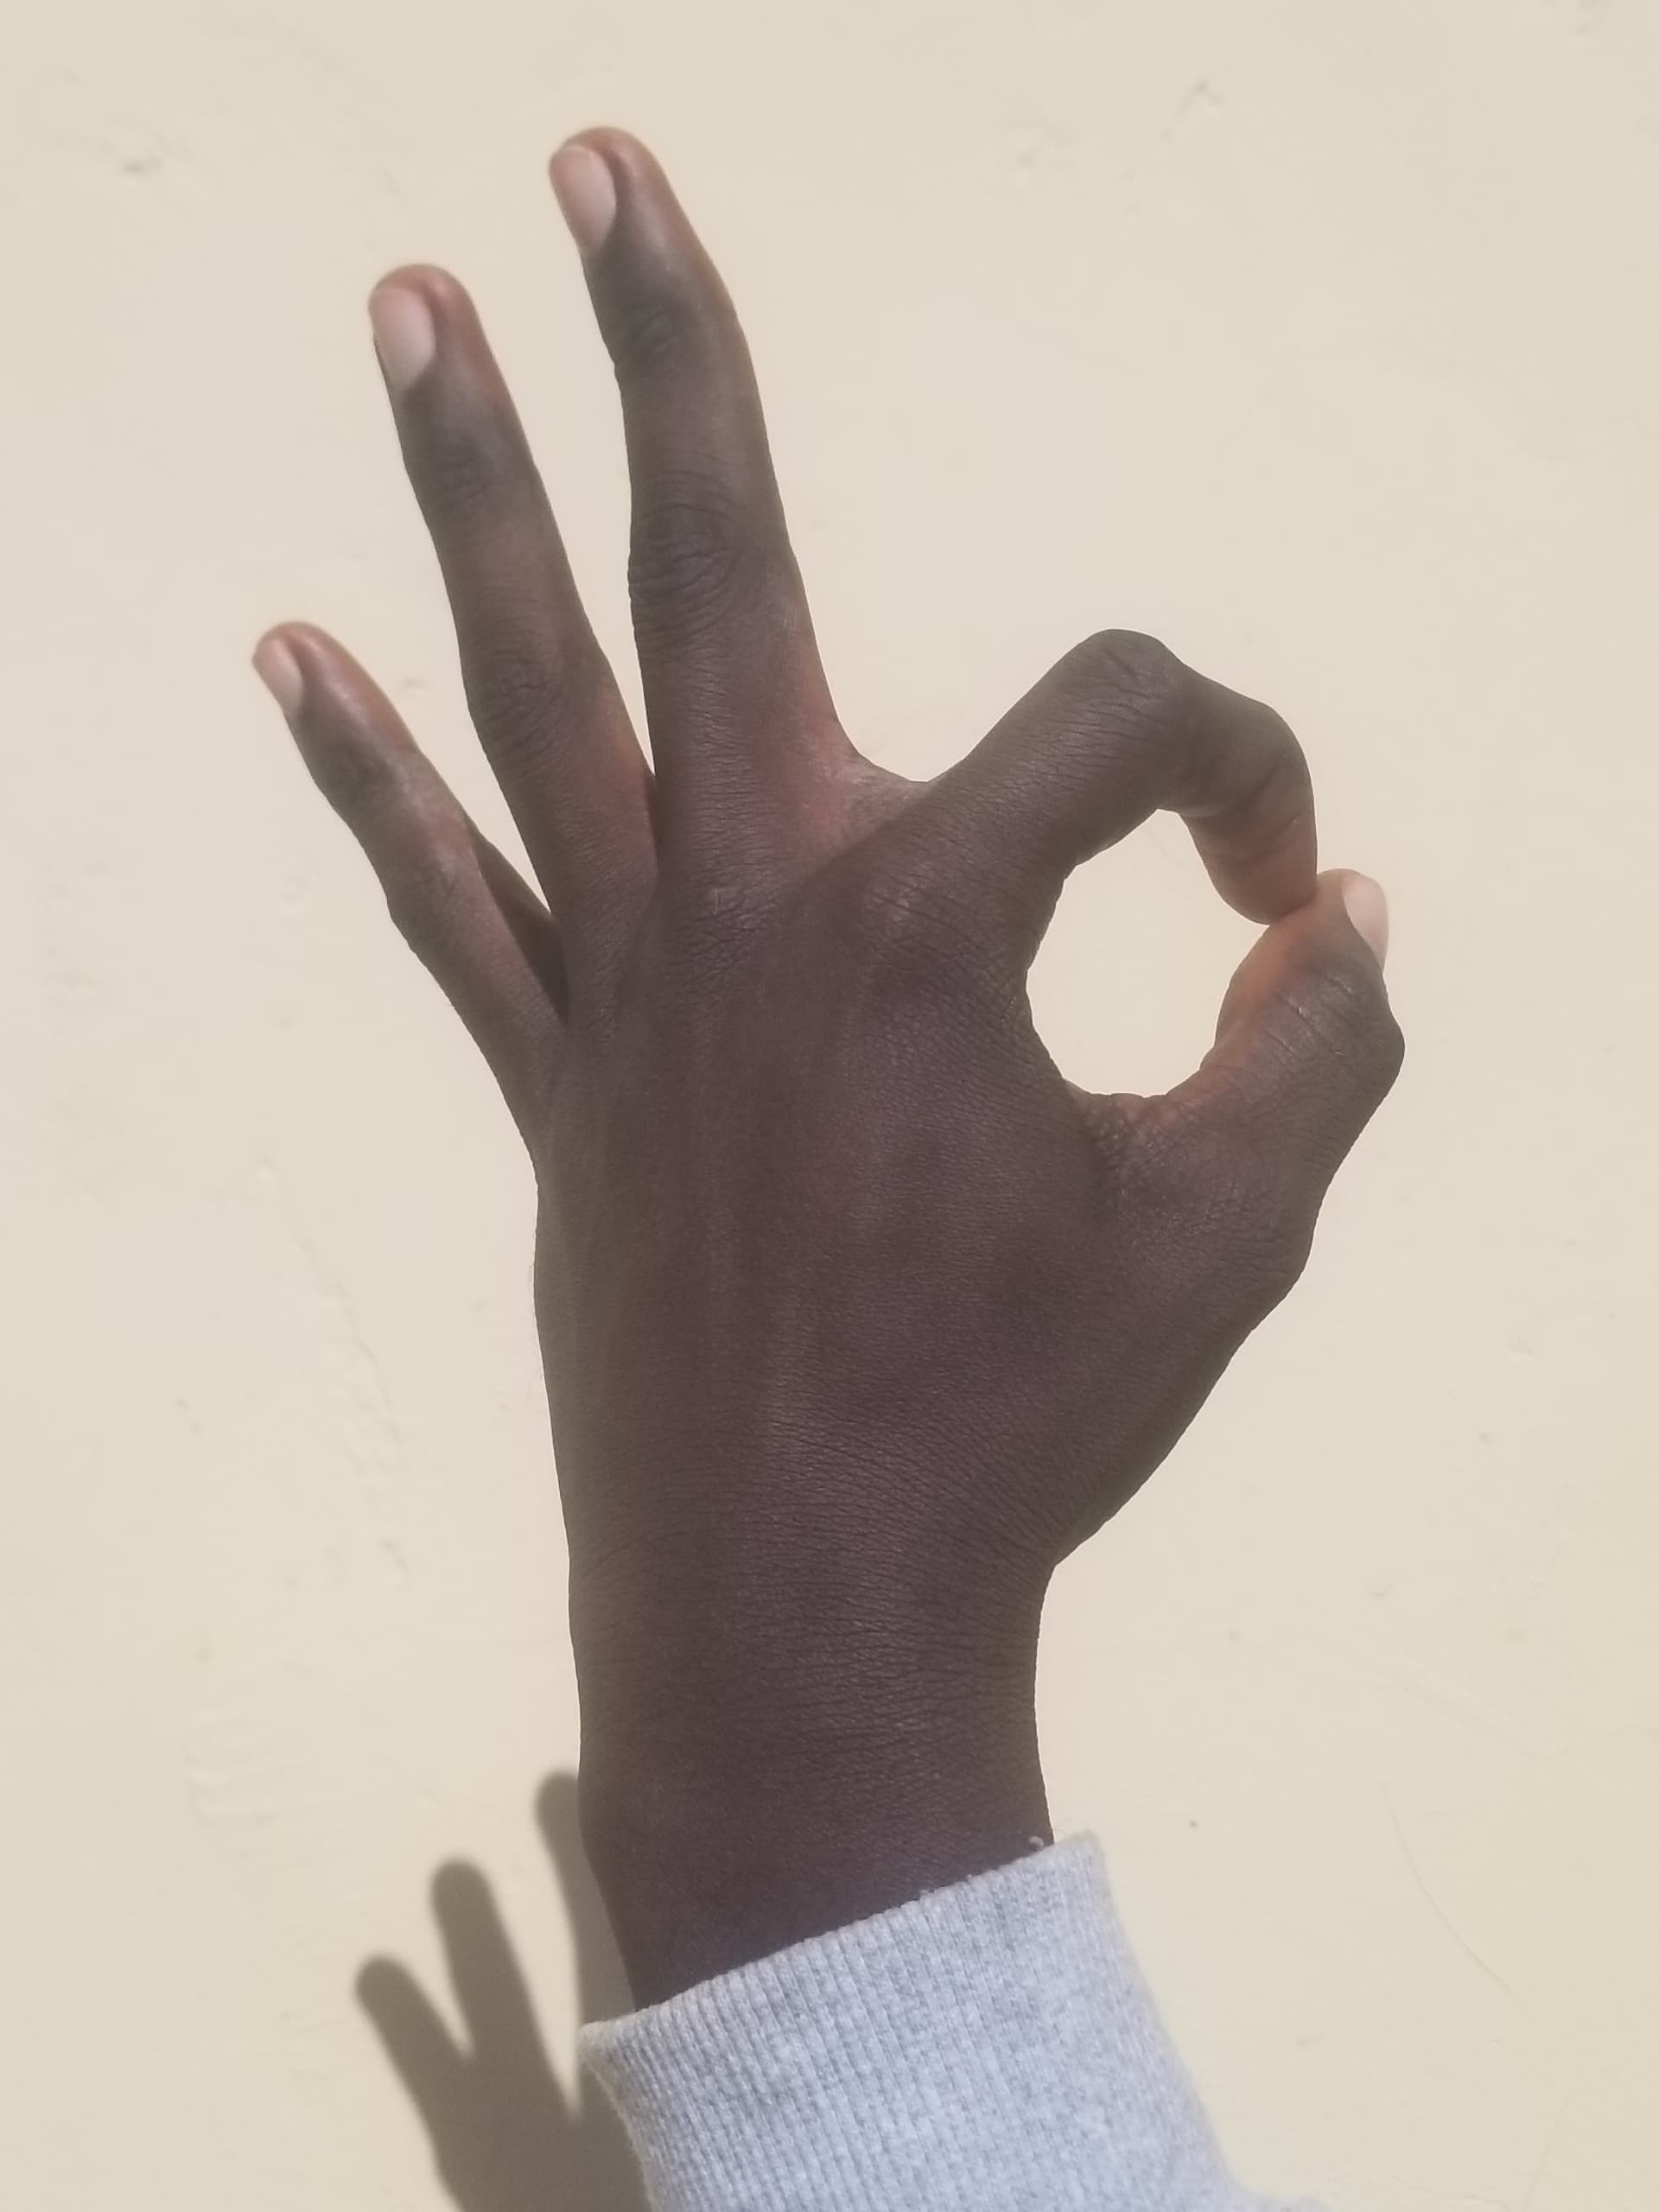okay: (139, 106, 1459, 2015)
